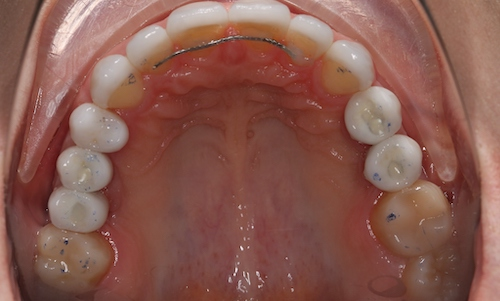UL1BC_decay: (346, 86, 401, 143)
UL1M_decay: (379, 183, 450, 252)
UL2BC_decay: (365, 136, 422, 190)
UL2M_healthy: (407, 254, 464, 300)
ULCI_decay: (228, 1, 288, 52)
ULC_decay: (324, 40, 373, 94)
ULLI_decay: (290, 13, 332, 66)
UR1BC_decay: (70, 104, 128, 151)
UR1M_decay: (50, 190, 107, 231)
UR2BC_decay: (58, 148, 112, 190)
UR2M_decay: (36, 228, 111, 289)
URCI_decay: (167, 2, 227, 52)
URC_decay: (92, 55, 143, 111)
URLI_decay: (127, 25, 171, 71)
